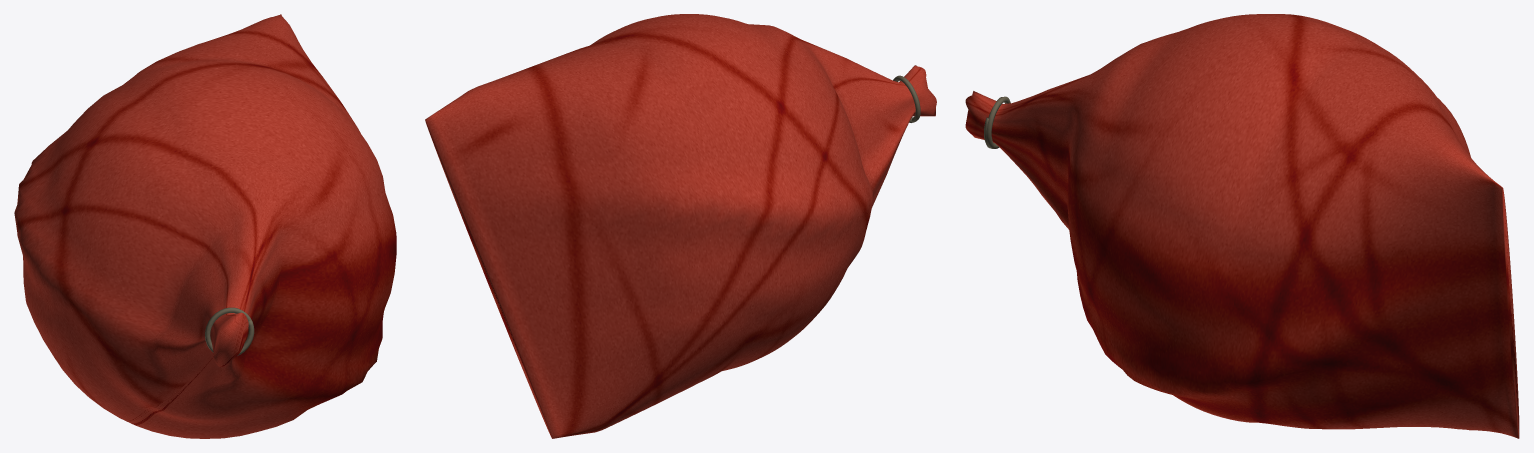
The model's file is peach_01_018.glb.
3 views of the same model, side by side, from view 1: azimuth 30°, elevation 25°; view 2: azimuth 150°, elevation 25°; view 3: azimuth 270°, elevation 25° (orthographic). The views are drawn at different scales.
Parts seen in each view (by area): view 1: export_Tree01/shoot0_6_1/bag, export_Tree01/shoot0_6_1/bag/tie; view 2: export_Tree01/shoot0_6_1/bag; view 3: export_Tree01/shoot0_6_1/bag.
Boxes of the visible parts, x1,y1,x2,y2 form: export_Tree01/shoot0_6_1/bag: (14, 14, 396, 438); export_Tree01/shoot0_6_1/bag/tie: (205, 307, 254, 355); export_Tree01/shoot0_6_1/bag: (425, 14, 936, 438); export_Tree01/shoot0_6_1/bag: (965, 14, 1519, 438).
Bounding box in the file's own units: 0.0902 × 0.0896 × 0.1143.
4 materials, 1 textured.
